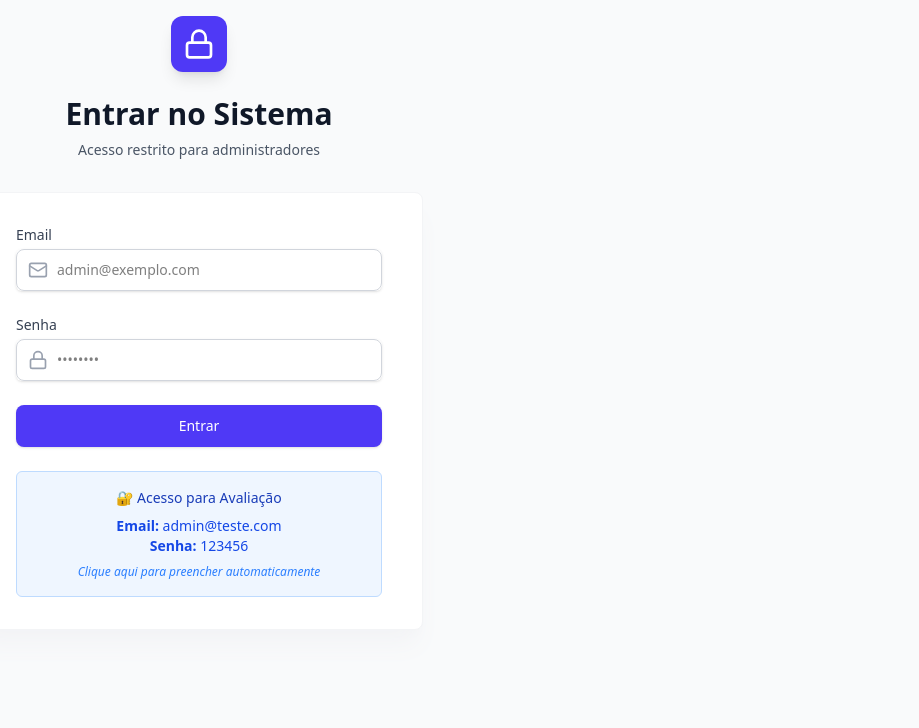
Login Page › displays toast error on login failure
Note: Fill inputs to satisfy HTML5 validation
In the field labelled "Email": (199, 270) [16,249,382,291], type "test@example.com"
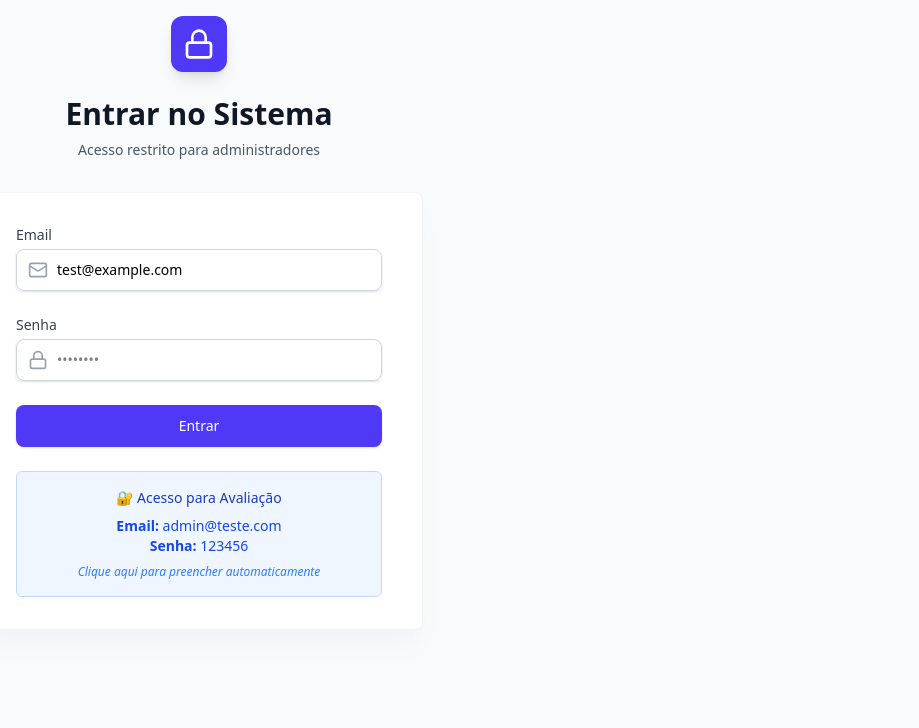
In the password field labelled "Senha": (199, 360) [16,339,382,381], type "wrongpassword"
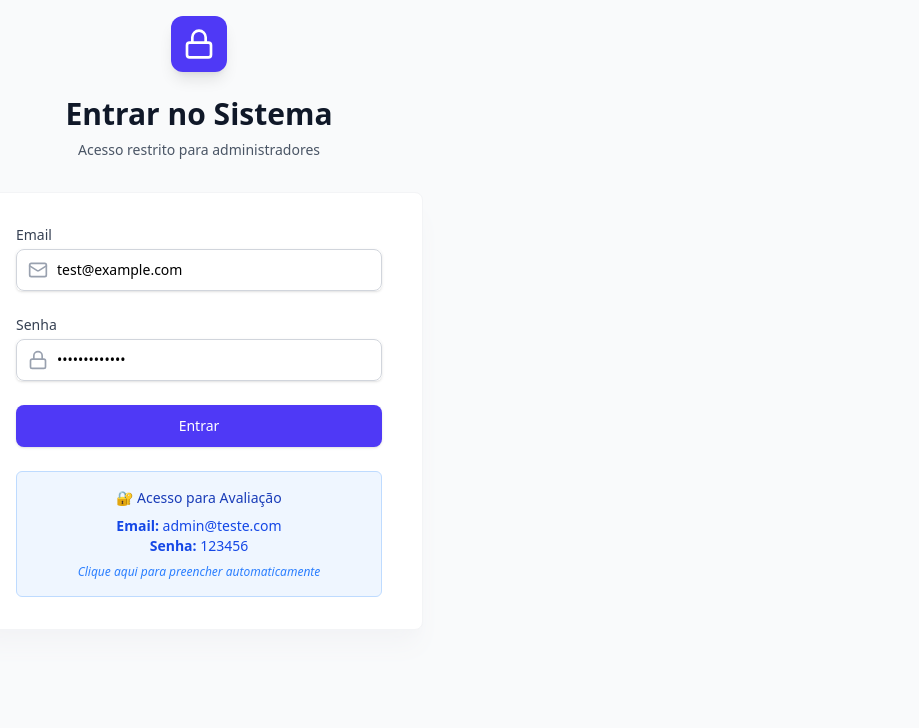
Click the button "Entrar": click(199, 426) [16,405,382,447]
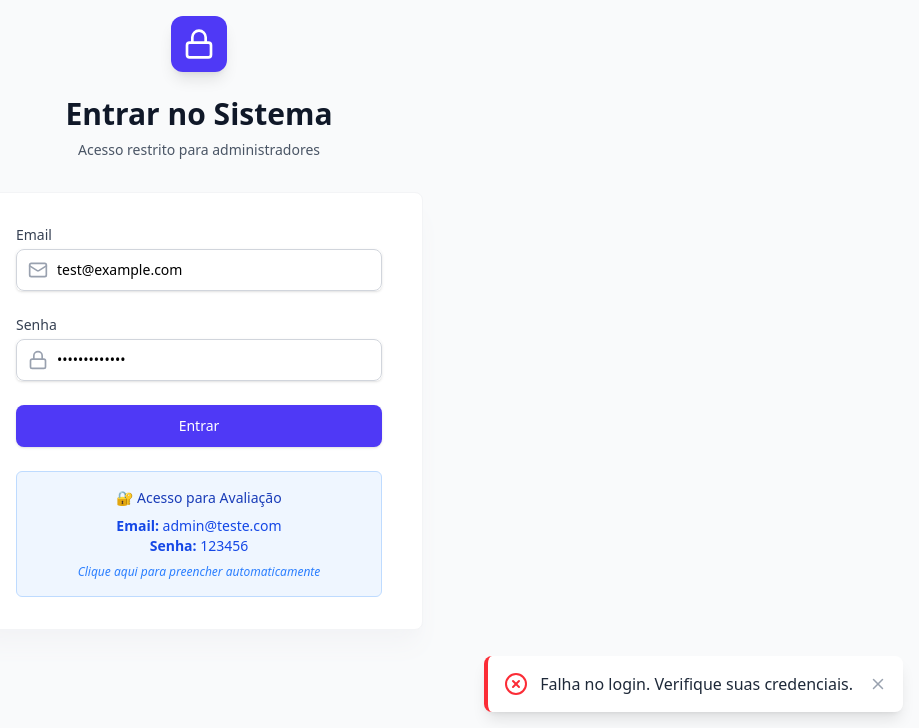
Expected: the text "Falha no login. Verifique suas credenciais." is shown, [540,672,853,696]
